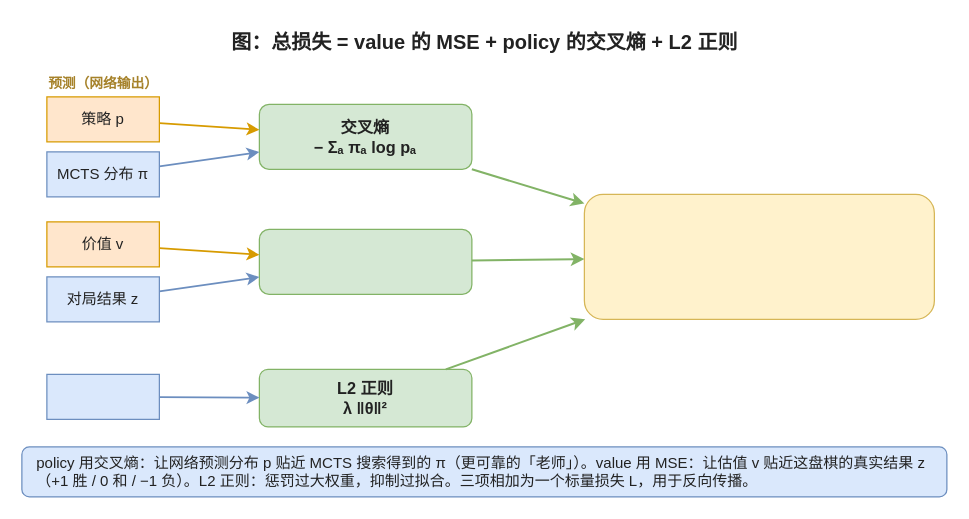
Some shapes in this 969 by 519 pixel diagram are drawn without their labels. The box of each missing label's shape, as (x1, y1, x2, y2) in pixels:
MSE (z − v)²: (258, 228, 472, 294)
参数 θ: (46, 373, 159, 419)
总损失 L = (z−v)² − Σₐ πₐ log pₐ + λ‖θ‖²: (583, 193, 934, 319)
